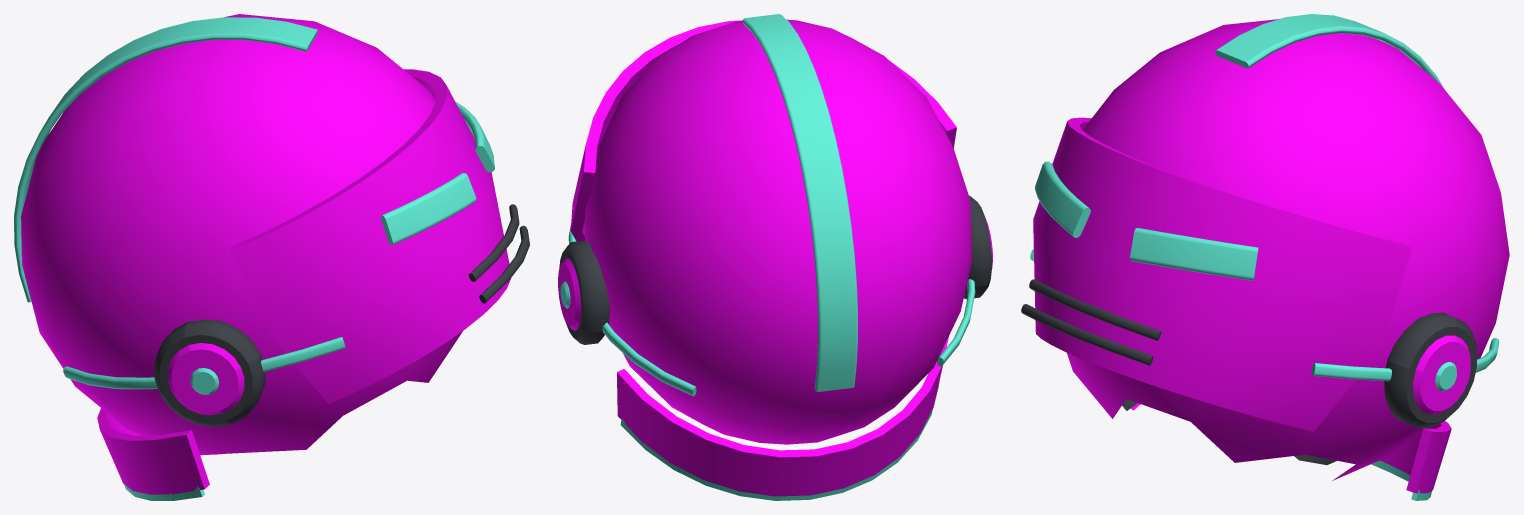
File: objet_armure5_casque.glb
3 views of the same model, side by side, from view 1: azimuth 30°, elevation 25°; view 2: azimuth 150°, elevation 25°; view 3: azimuth 270°, elevation 25° (orthographic). The views are drawn at different scales.
Visible parts, largest first — view 1: tete__casque_teinte.010, tete__casque_nano_lueur.002, tete__casque_teinte_sombre.010; view 2: tete__casque_teinte.010, tete__casque_nano_lueur.002, tete__casque_teinte_sombre.010; view 3: tete__casque_teinte.010, tete__casque_nano_lueur.002, tete__casque_teinte_sombre.010.
Part boxes in pixels (left/top/right/bottom): tete__casque_teinte.010: left=21, top=14, right=510, bottom=494; tete__casque_nano_lueur.002: left=14, top=17, right=494, bottom=500; tete__casque_teinte_sombre.010: left=154, top=204, right=529, bottom=427; tete__casque_teinte.010: left=558, top=19, right=992, bottom=496; tete__casque_nano_lueur.002: left=560, top=14, right=975, bottom=500; tete__casque_teinte_sombre.010: left=559, top=195, right=991, bottom=344; tete__casque_teinte.010: left=1033, top=19, right=1509, bottom=493; tete__casque_nano_lueur.002: left=1030, top=14, right=1499, bottom=500; tete__casque_teinte_sombre.010: left=1021, top=279, right=1476, bottom=464.
Bounding box in the file's own units: 0.2736 × 0.2896 × 0.2713.
